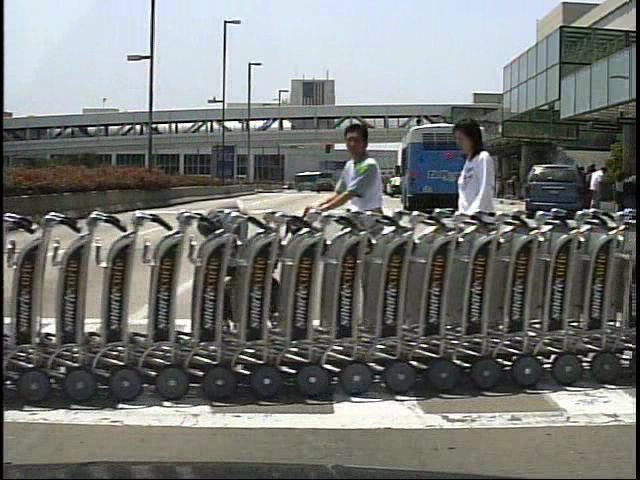person: (306, 118, 405, 362), (448, 115, 510, 330), (589, 165, 609, 215), (584, 163, 600, 216)
